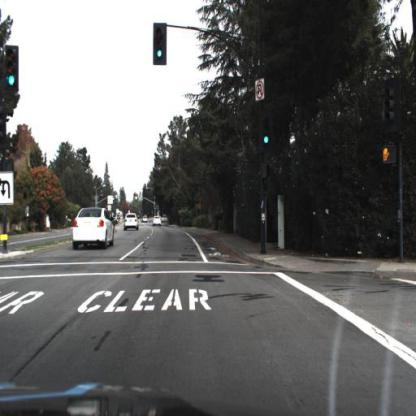car: (69, 203, 118, 254), (122, 210, 140, 234), (149, 210, 164, 230)
trafficLight-Green: (152, 22, 166, 64), (6, 45, 18, 90), (261, 114, 271, 150), (260, 132, 272, 148)
